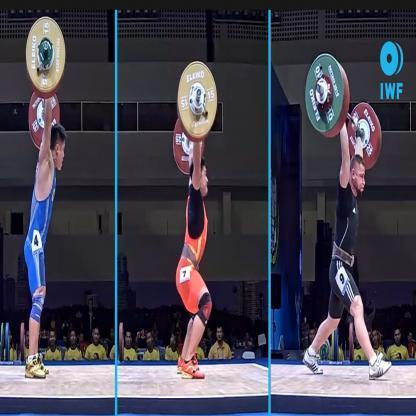barbell: (305, 52, 384, 168), (26, 15, 64, 154), (174, 59, 217, 177)
